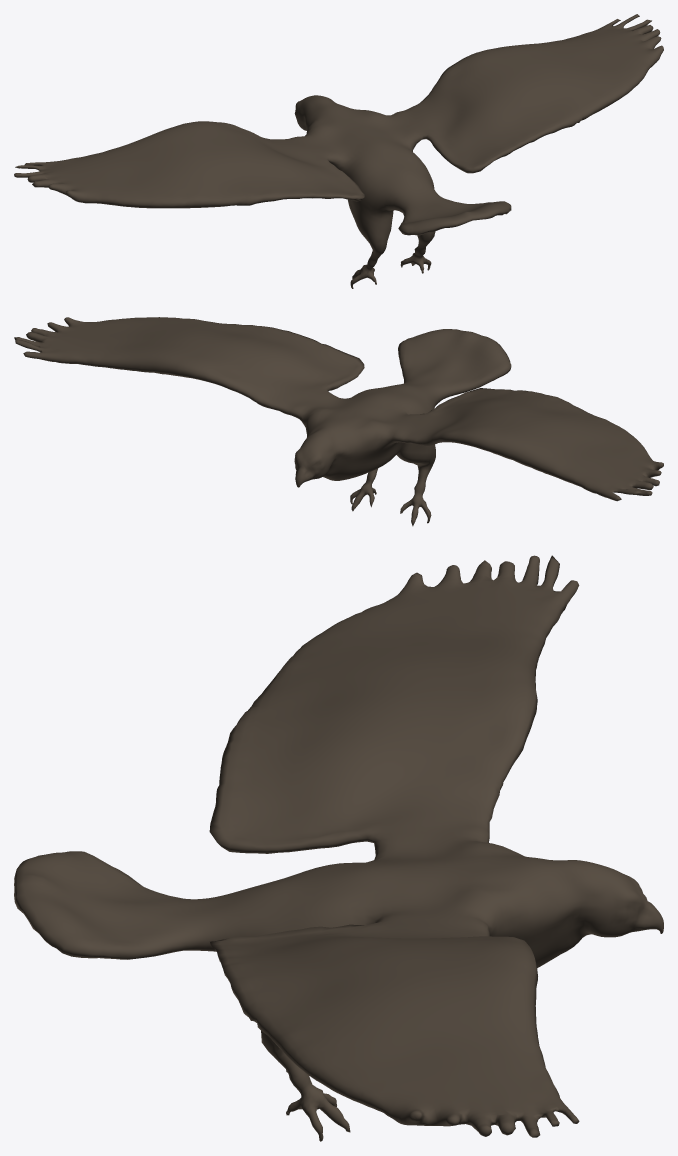
File: falcone.obj
The picture shows the model from 3 angles, top to bottom: view 1: azimuth 30°, elevation 25°; view 2: azimuth 150°, elevation 25°; view 3: azimuth 270°, elevation 25°; orthographic projection. The views are drawn at different scales.
Parts seen in each view (by area): view 1: mesh-retopo new 1; view 2: mesh-retopo new 1; view 3: mesh-retopo new 1.
Part boxes in pixels (bbox=[...]): mesh-retopo new 1: bbox=[14, 14, 663, 288]; mesh-retopo new 1: bbox=[14, 317, 663, 526]; mesh-retopo new 1: bbox=[14, 555, 663, 1141].
Bounding box in the file's own units: 74.59 × 17.3 × 35.38.
